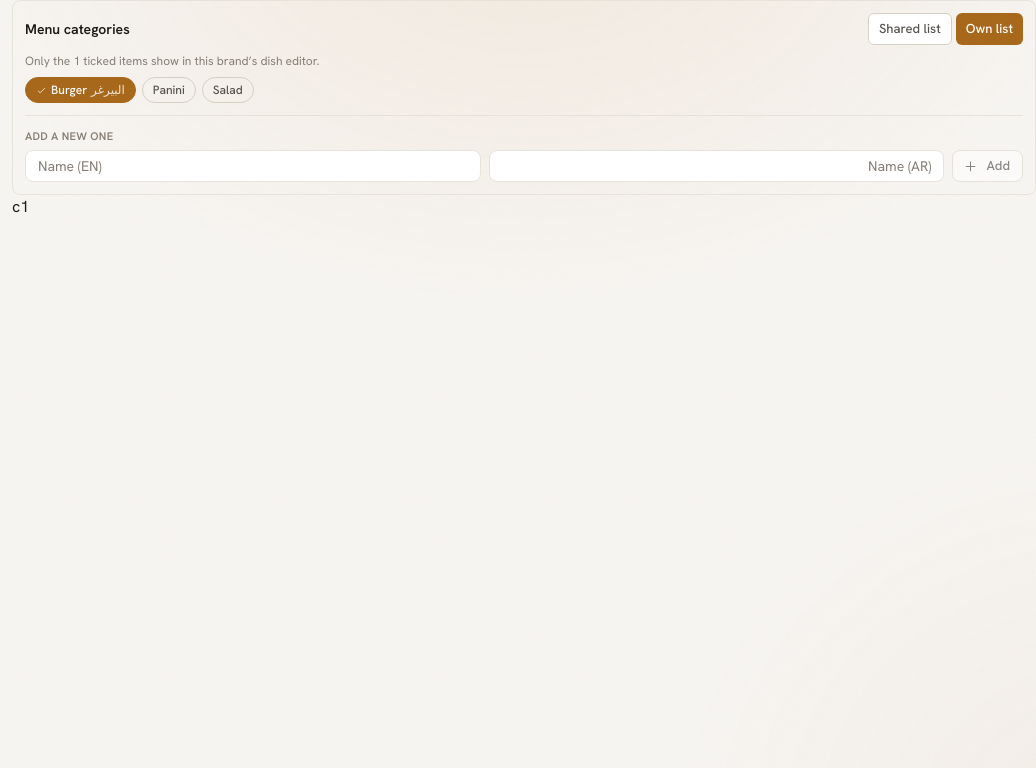
Test case: BrandListEditor › shows the add error and keeps the list unchanged
In the field labelled "Name (EN)": (253, 166) [25, 150, 481, 182], type "Burger"
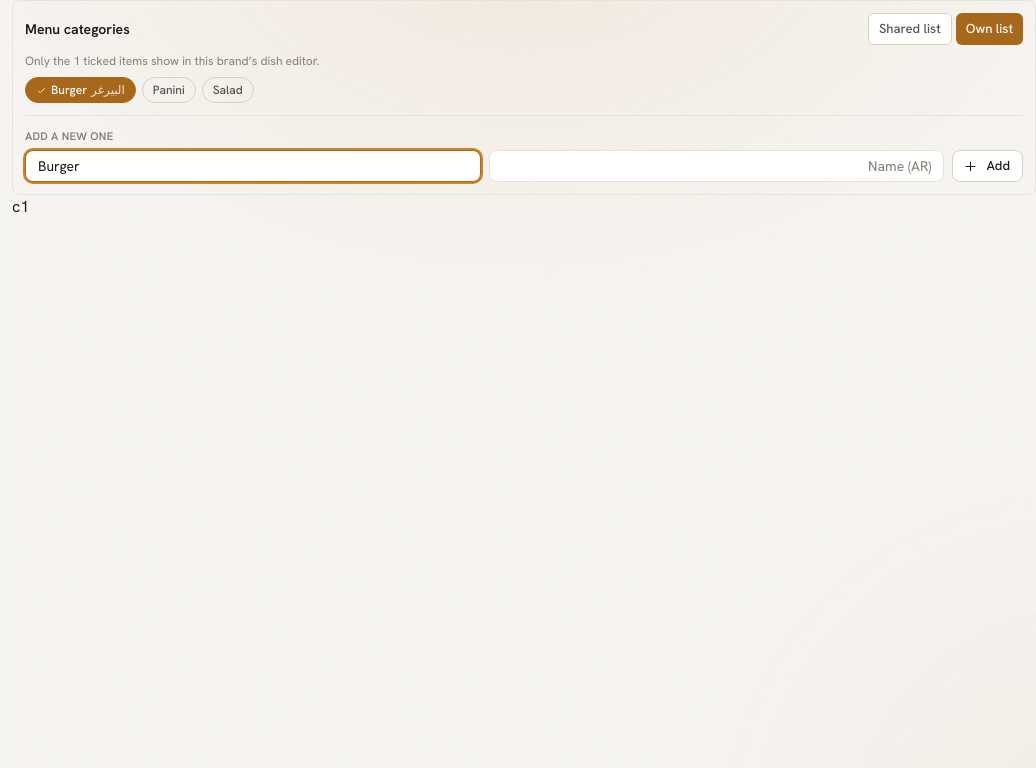
Click the button "Add": (988, 166) [952, 150, 1023, 182]
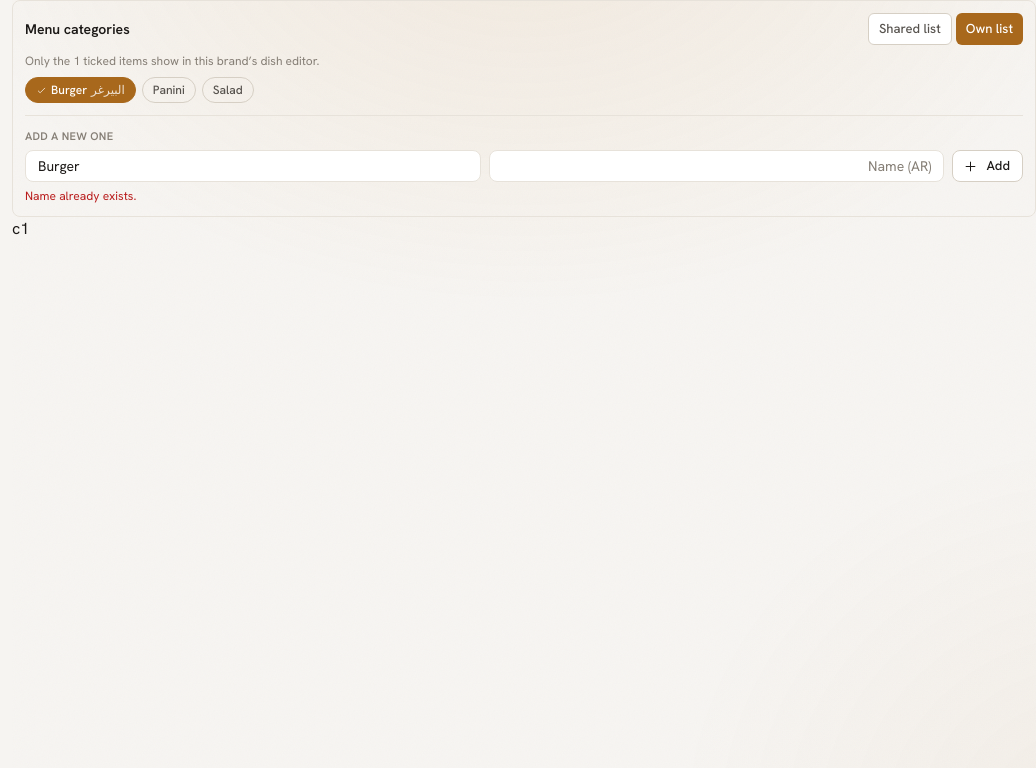
Expected: the message reads "Name already exists.", [25, 188, 136, 204]
